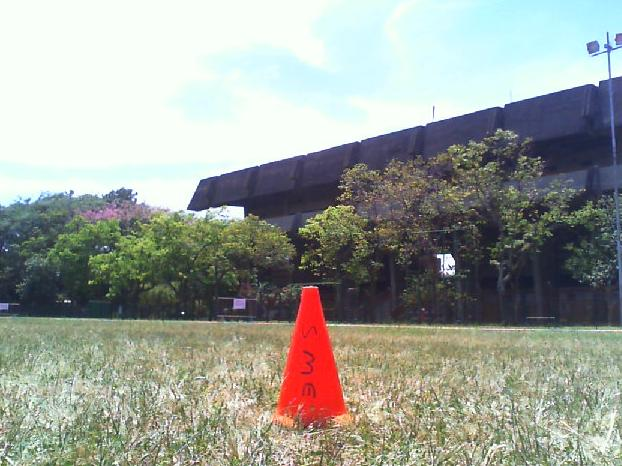0 cone: (274, 286, 353, 428)
